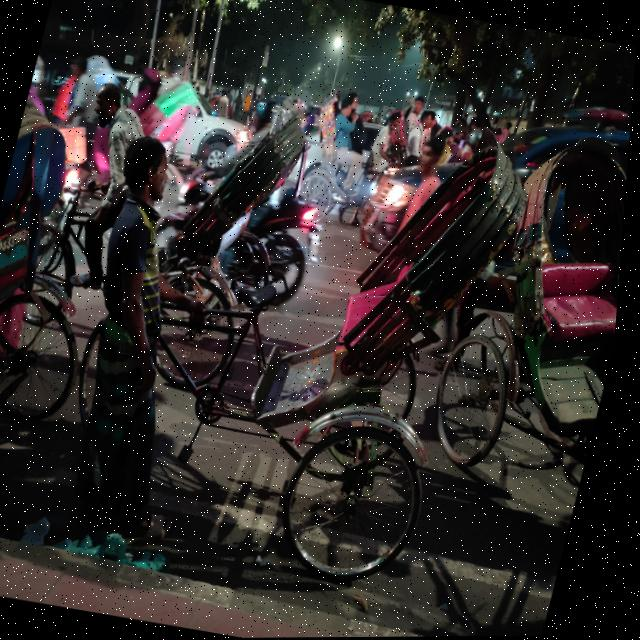rikshaw: (37, 70, 551, 601), (14, 36, 333, 372), (449, 115, 633, 499), (258, 67, 455, 263)
